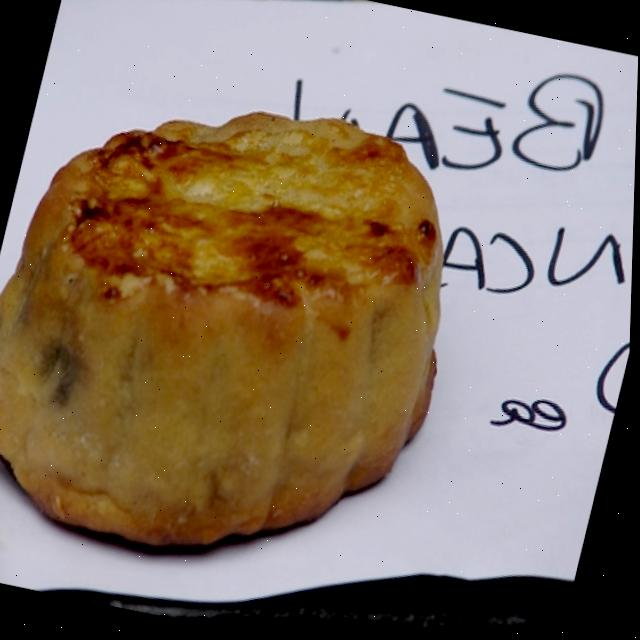蛋糕甜品: (0, 29, 513, 598)
